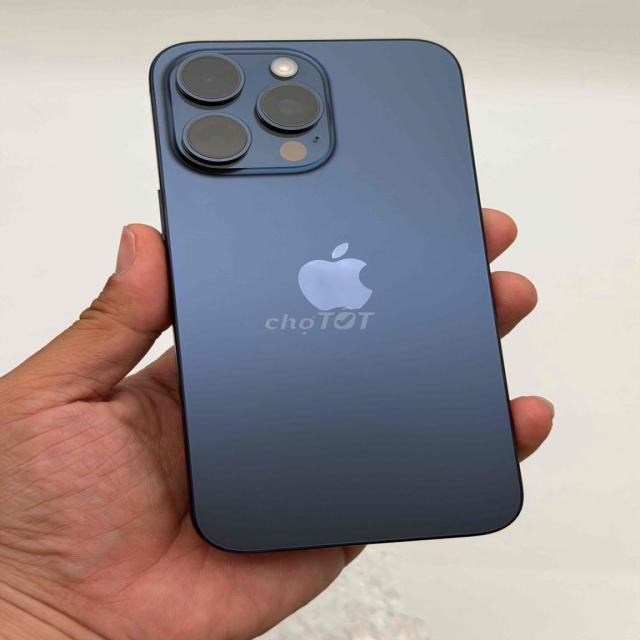gen_15: (123, 24, 544, 561)
